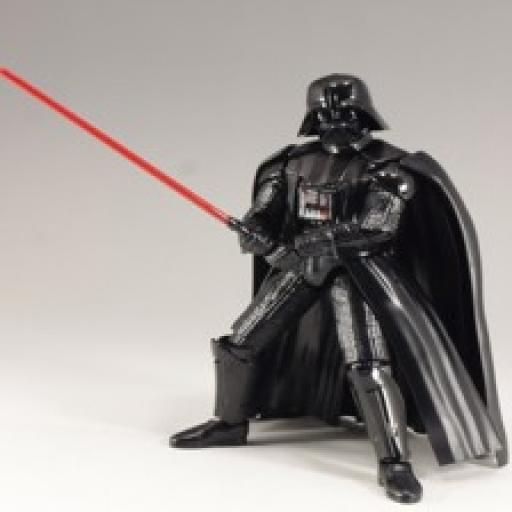human: (182, 72, 512, 503)
sith saber: (2, 68, 298, 270)
